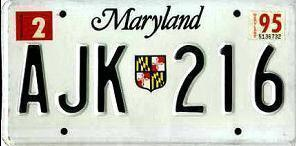placa de veiculo: (6, 1, 294, 145)
